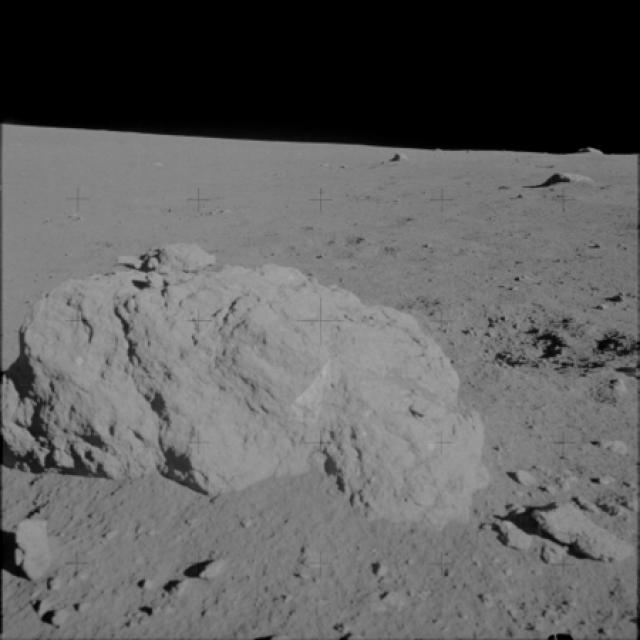rock: (0, 225, 500, 524), (528, 500, 634, 560), (0, 524, 69, 590), (541, 164, 602, 213), (26, 592, 87, 628), (372, 143, 422, 172), (487, 518, 522, 548), (160, 578, 200, 598), (599, 433, 628, 459), (509, 462, 533, 490), (540, 542, 568, 566), (194, 555, 221, 579)
